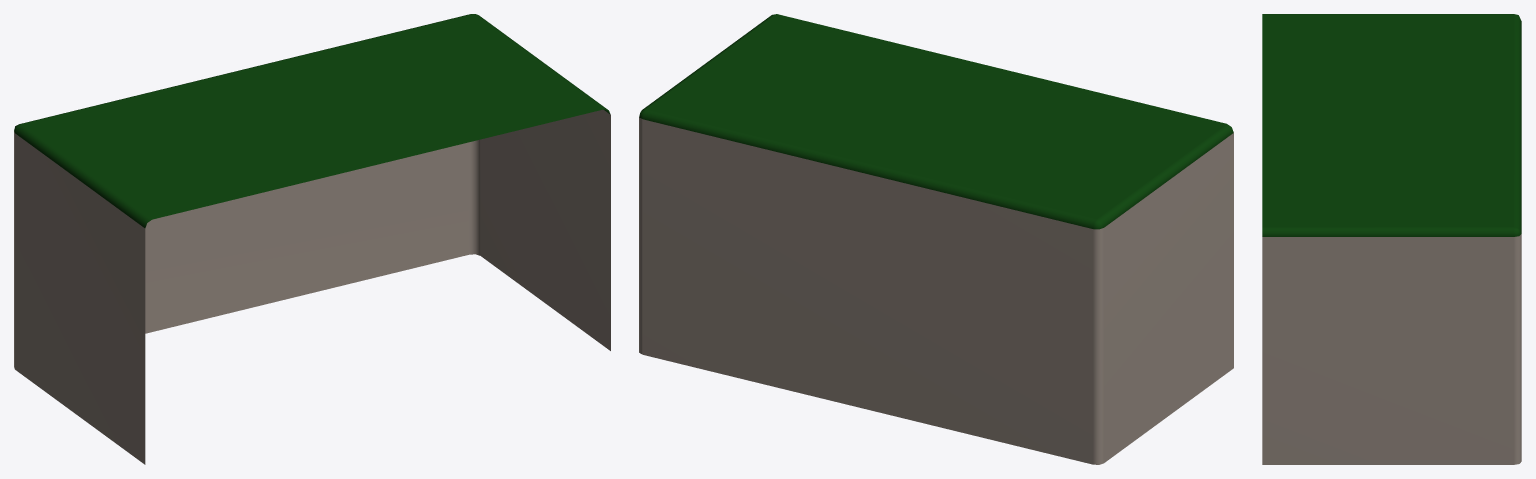
The model's file is Cliff_03_Thin.fbx.
3 renders of one model, left to right at view 1: azimuth 30°, elevation 25°; view 2: azimuth 150°, elevation 25°; view 3: azimuth 270°, elevation 25°, orthographic. The views are drawn at different scales.
Parts seen in each view (by area): view 1: Cliff_03_Thin; view 2: Cliff_03_Thin; view 3: Cliff_03_Thin.
Part boxes in pixels (x1,y1,x2,y2): Cliff_03_Thin: (14, 14, 610, 464); Cliff_03_Thin: (639, 14, 1233, 464); Cliff_03_Thin: (1262, 14, 1521, 464).
Size of the model in its own units: 200 by 100 by 100.
